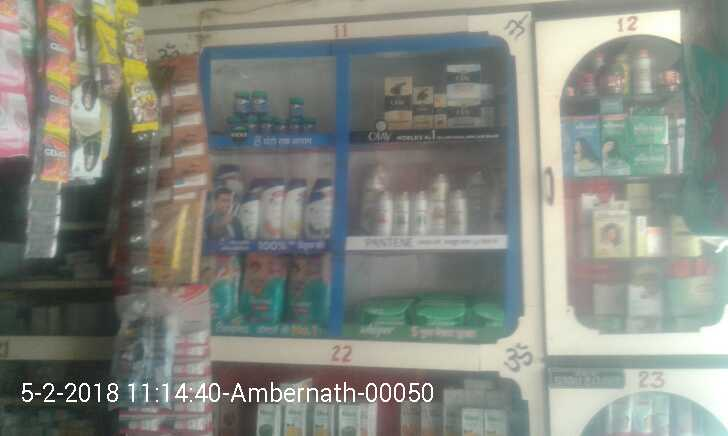beauty: (258, 176, 291, 239), (385, 70, 411, 130), (283, 174, 304, 246), (304, 188, 328, 240), (447, 93, 485, 125), (429, 172, 447, 231), (409, 181, 427, 237), (447, 191, 467, 241), (448, 65, 482, 93), (373, 186, 392, 236), (410, 89, 432, 128), (392, 188, 408, 230)
pharmacy: (241, 246, 288, 324), (284, 246, 327, 327), (228, 108, 321, 140), (202, 250, 241, 326), (411, 294, 468, 329), (351, 294, 410, 327), (222, 88, 248, 111), (475, 301, 496, 326), (249, 87, 269, 112), (279, 96, 307, 113)
